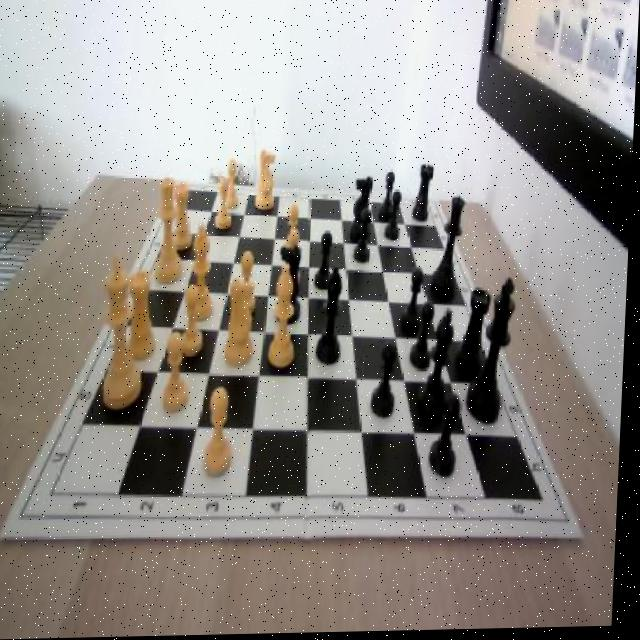bishop: (420, 307, 459, 425), (319, 268, 346, 365)
black-bishop: (470, 282, 519, 427)
black-king: (349, 170, 378, 247), (279, 244, 306, 325)
black-knight: (432, 395, 464, 479), (375, 342, 403, 419), (411, 303, 438, 373), (403, 268, 427, 336), (317, 231, 338, 292), (357, 210, 377, 268), (386, 191, 404, 245), (381, 173, 398, 223)
black-pawn: (432, 196, 468, 303)
black-queen: (459, 288, 493, 377), (415, 166, 436, 224)
black-rook: (270, 270, 300, 371), (189, 225, 218, 323)
white-bishop: (102, 250, 150, 409)
white-king: (221, 269, 263, 371), (255, 147, 281, 212)
white-knight: (204, 388, 240, 479), (162, 330, 196, 415), (180, 284, 210, 361), (235, 253, 261, 320), (284, 232, 306, 291), (283, 205, 304, 262), (223, 163, 243, 212), (217, 179, 236, 229)
white-pawn: (155, 177, 191, 283)
white-queen: (129, 266, 161, 361), (173, 180, 194, 253)
